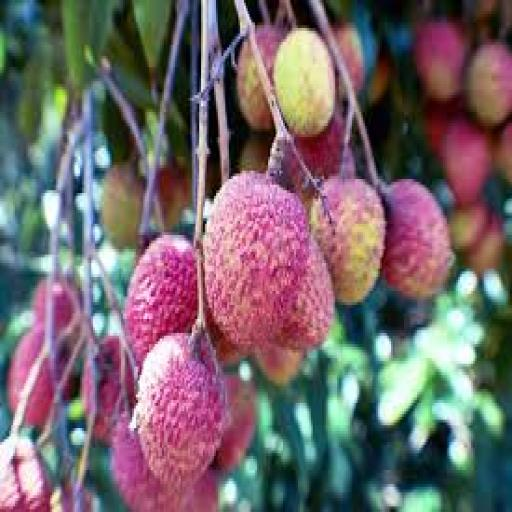lychee: (203, 171, 309, 346), (135, 333, 227, 481), (311, 177, 385, 304), (125, 236, 197, 363), (382, 180, 452, 299), (110, 415, 188, 511), (270, 236, 335, 349), (274, 28, 335, 137), (82, 336, 134, 442), (442, 118, 491, 207), (414, 20, 465, 100), (216, 375, 256, 470), (466, 42, 511, 125), (0, 437, 50, 511), (101, 166, 145, 249), (295, 110, 344, 179), (237, 42, 273, 131), (8, 325, 44, 411), (157, 163, 191, 232), (468, 216, 506, 274), (423, 101, 461, 159), (336, 23, 364, 92), (256, 345, 303, 386), (209, 319, 249, 366), (449, 202, 489, 249), (181, 471, 219, 511), (53, 277, 80, 332), (367, 54, 392, 103), (239, 135, 271, 173), (51, 485, 93, 511), (496, 124, 511, 184)
